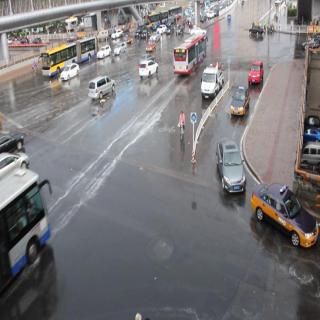BigCar: (42, 33, 97, 84), (171, 36, 207, 84)
Car: (251, 172, 313, 262), (216, 136, 243, 198), (201, 62, 223, 98), (137, 56, 162, 86), (86, 76, 112, 102), (58, 62, 86, 86), (230, 85, 248, 121), (245, 58, 264, 88)
